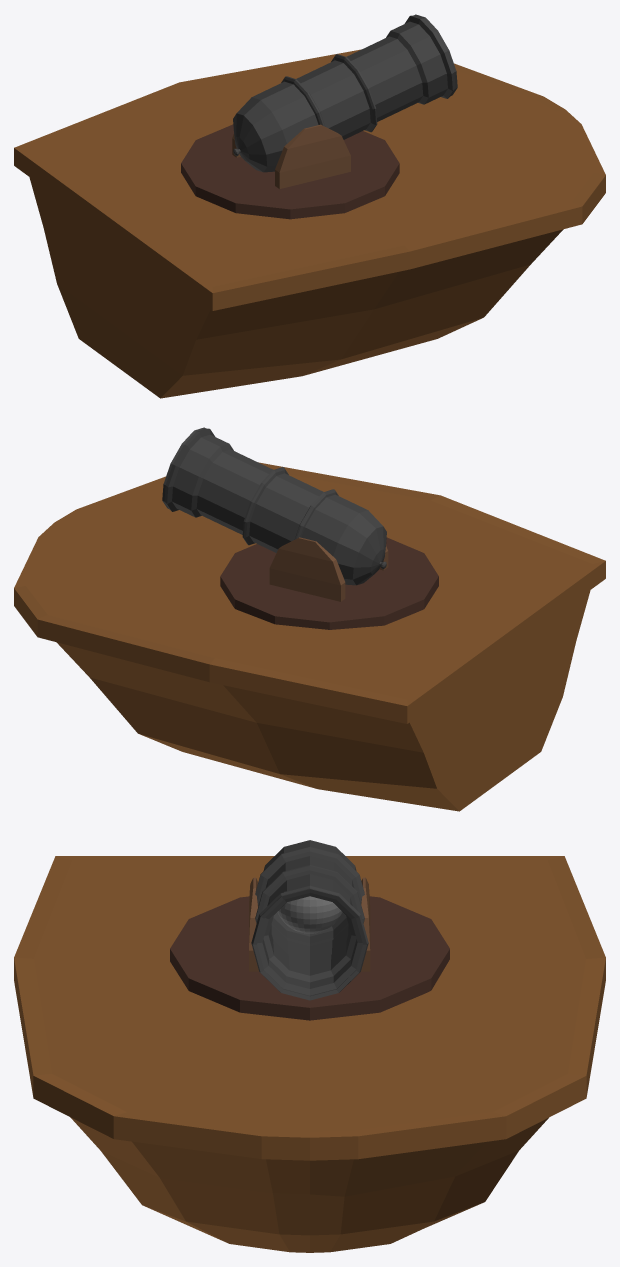
Rendered from EnemyBoat.fbx.
The picture shows the model from 3 angles, top to bottom: view 1: azimuth 30°, elevation 25°; view 2: azimuth 150°, elevation 25°; view 3: azimuth 270°, elevation 25°; orthographic projection. The views are drawn at different scales.
Visible parts, largest first — view 1: Boat, Cylinder, Circle, Cube; view 2: Boat, Cylinder, Circle, Cube.001; view 3: Boat, Circle, Cylinder, Sphere, Cube, Cube.001.
Boxes of the visible parts, <box> form: Boat: <box>14,49,605,398</box>; Cylinder: <box>233,14,457,172</box>; Circle: <box>181,124,399,219</box>; Cube: <box>275,124,350,188</box>; Boat: <box>14,462,605,811</box>; Cylinder: <box>162,427,386,585</box>; Circle: <box>220,537,438,629</box>; Cube.001: <box>269,537,345,601</box>; Boat: <box>14,856,605,1252</box>; Circle: <box>170,896,449,1020</box>; Cylinder: <box>251,840,368,1000</box>; Sphere: <box>277,896,342,933</box>; Cube: <box>249,877,258,971</box>; Cube.001: <box>361,877,370,971</box>.
Bounding box in the file's own units: 146 × 87.13 × 129.
